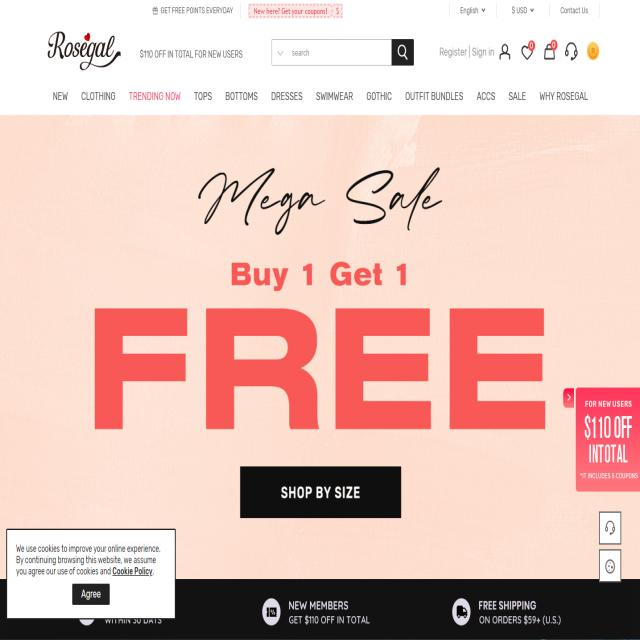sneaking: (68, 248, 639, 524), (8, 528, 172, 619)
